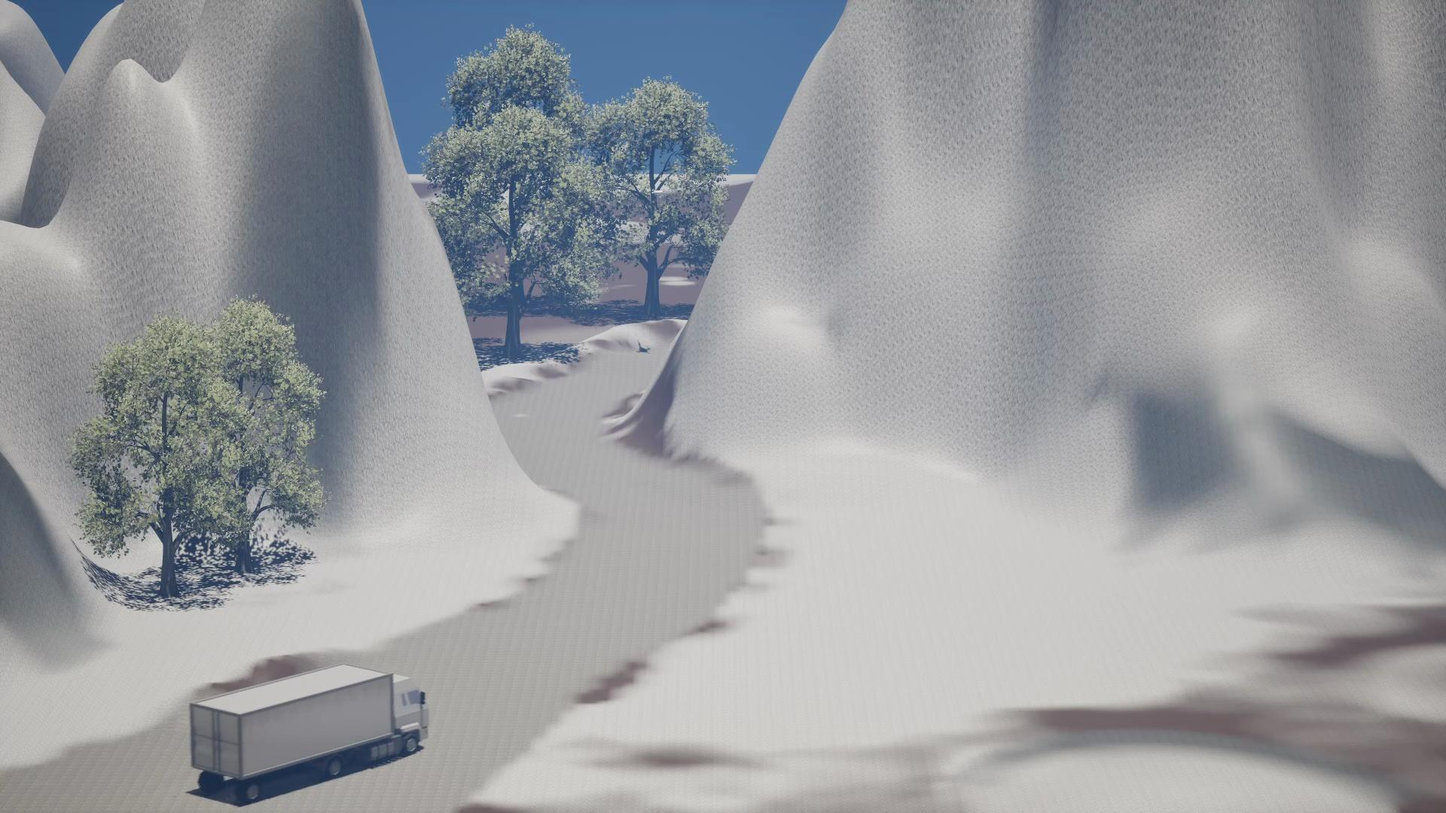truck: (189, 663, 429, 804)
